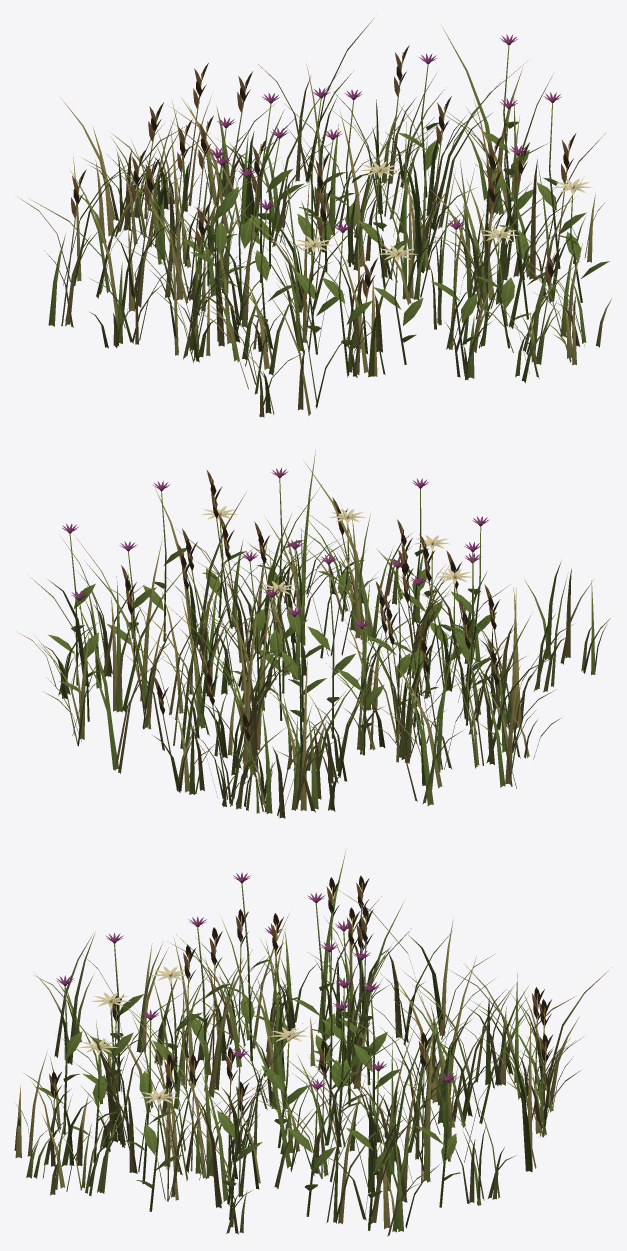
The model's file is frontier_sunmeadow_meadow_lod1.glb.
3 views of the same model, one above another, from view 1: azimuth 30°, elevation 25°; view 2: azimuth 150°, elevation 25°; view 3: azimuth 270°, elevation 25° (orthographic). The views are drawn at different scales.
Visible parts, largest first — view 1: frontier_sunmeadow_meadow_LOD1; view 2: frontier_sunmeadow_meadow_LOD1; view 3: frontier_sunmeadow_meadow_LOD1.
Part boxes in pixels (x1,y1,x2,y2): frontier_sunmeadow_meadow_LOD1: (18, 17, 611, 417); frontier_sunmeadow_meadow_LOD1: (16, 449, 610, 818); frontier_sunmeadow_meadow_LOD1: (14, 851, 612, 1236).
Size of the model in its own units: 2.16 by 0.7194 by 2.12.
Materials: 1 (1 with a texture image).
